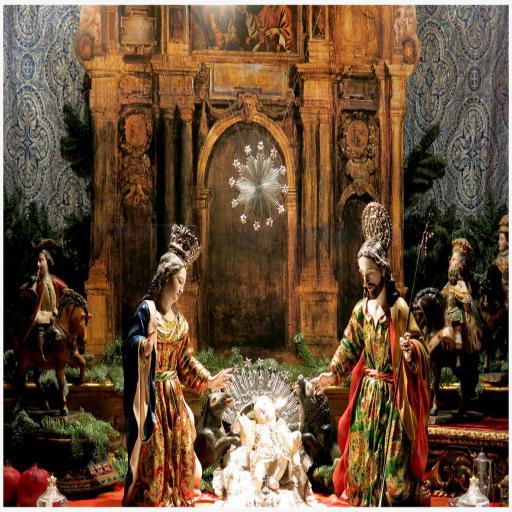Horse: (13, 290, 93, 414), (412, 286, 480, 416), (476, 261, 512, 373)
